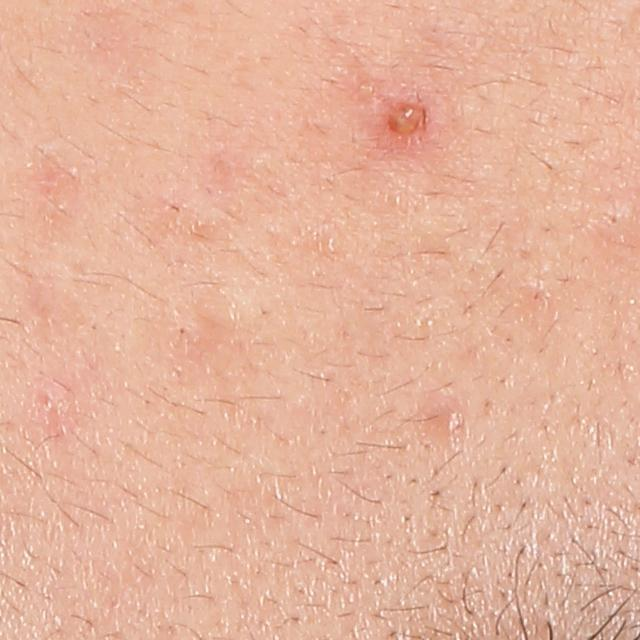pustule: (380, 96, 426, 146)
